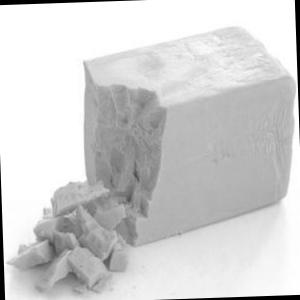cheese: (13, 17, 290, 296)
